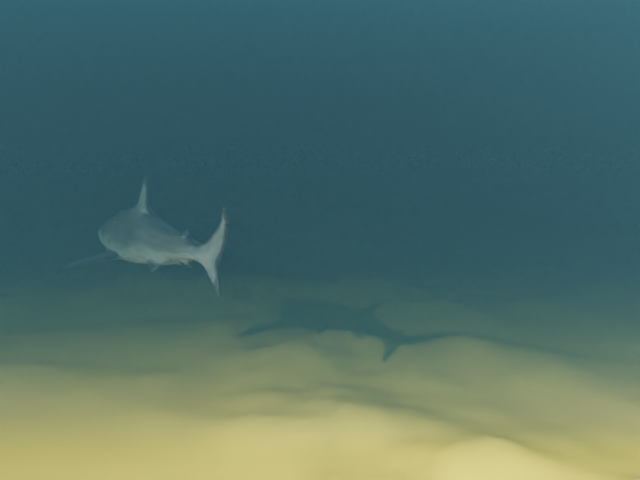Carribean Shark.001: (53, 176, 229, 297)
